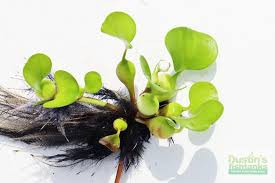water_hyacinth: (18, 12, 228, 148)
